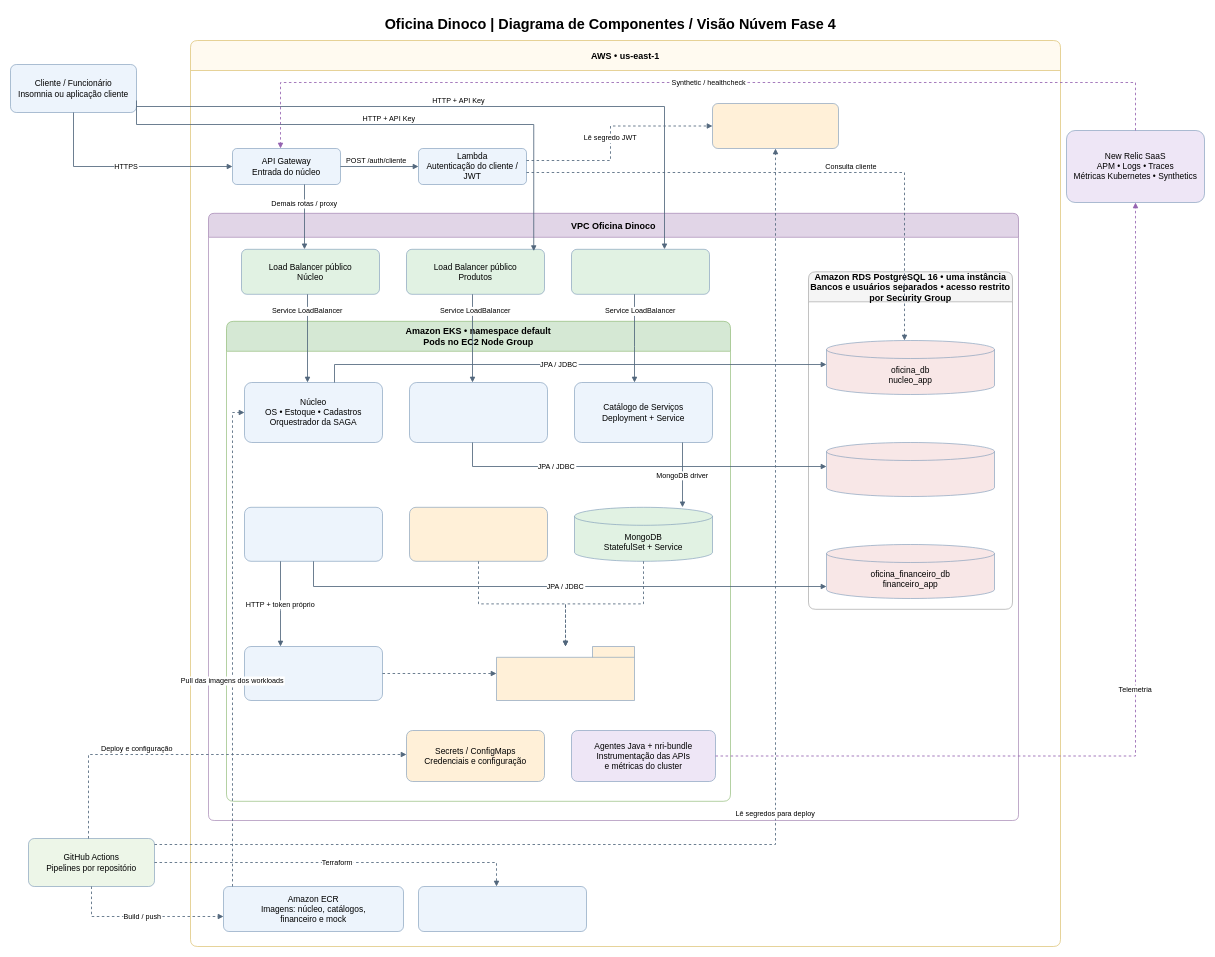
Image size: 1215x957. Some labels were removed from this diagram. Each missing label, with the box of its shape:
Amazon S3 Estado do Terraform: (418, 886, 586, 932)
Catálogo de Produtos Deployment + Service: (409, 382, 548, 442)
Financeiro Deployment + Service ClusterIP: (244, 507, 382, 561)
Load Balancer público Serviços: (571, 249, 710, 294)
oficina_produtos_db catalogo_produto_app: (826, 442, 994, 496)
Provedor de pagamento MOCK Deployment + Service ClusterIP: (244, 646, 382, 700)
PVCs → volumes EBS RabbitMQ • MongoDB • Mock: (496, 646, 634, 700)
RabbitMQ StatefulSet + Service: (409, 507, 548, 561)
Secrets Manager Segredos administrados na AWS: (712, 103, 838, 148)
